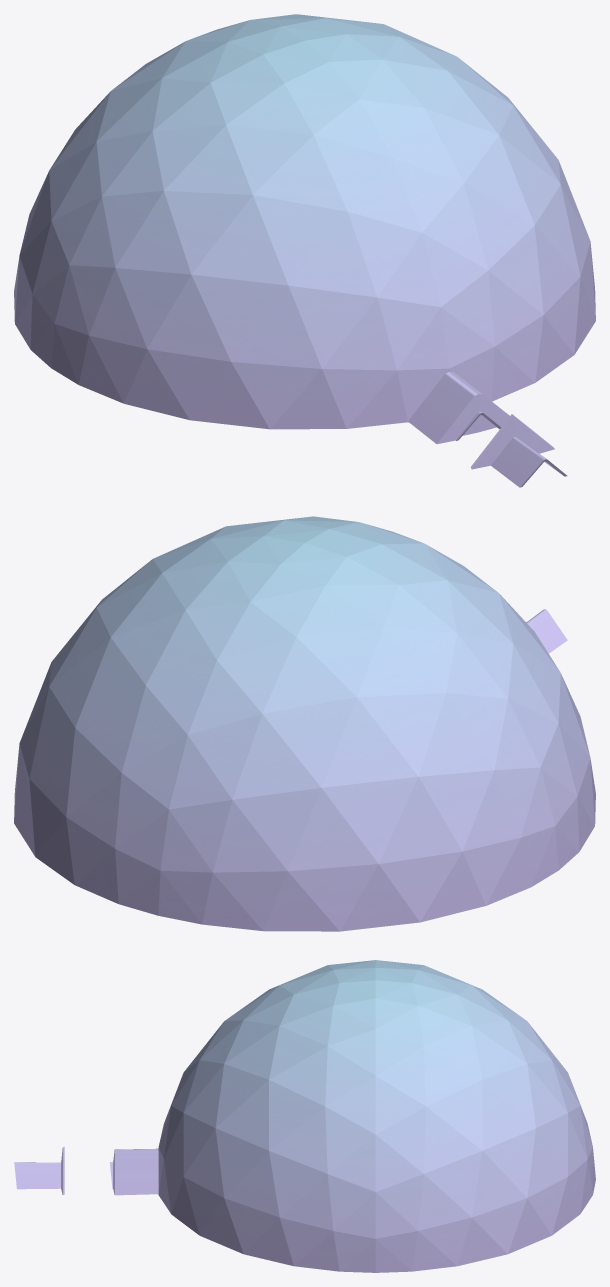
The model's file is Dome.fbx.
3 renders of one model, top to bottom at view 1: azimuth 30°, elevation 25°; view 2: azimuth 150°, elevation 25°; view 3: azimuth 270°, elevation 25°, orthographic. The views are drawn at different scales.
Visible parts, largest first — view 1: domenew:dome:pPlatonic1, domenew:pPlatonic7, domenew:pPlatonic15; view 2: domenew:dome:pPlatonic1, domenew:pPlatonic15; view 3: domenew:dome:pPlatonic1, domenew:pPlatonic7, domenew:pPlatonic15.
Part boxes in pixels (x1,y1,x2,y2): domenew:dome:pPlatonic1: (14, 14, 595, 429); domenew:pPlatonic7: (408, 371, 509, 444); domenew:pPlatonic15: (471, 414, 567, 487); domenew:dome:pPlatonic1: (14, 516, 595, 931); domenew:pPlatonic15: (526, 609, 567, 653); domenew:dome:pPlatonic1: (158, 960, 595, 1272); domenew:pPlatonic7: (109, 1148, 158, 1195); domenew:pPlatonic15: (14, 1147, 64, 1194).
Size of the model in its own units: 756 by 379 by 999.
